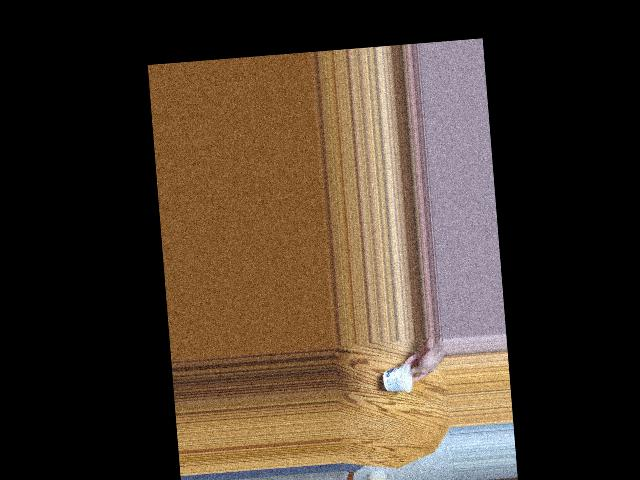cotage: (385, 363, 414, 396)
